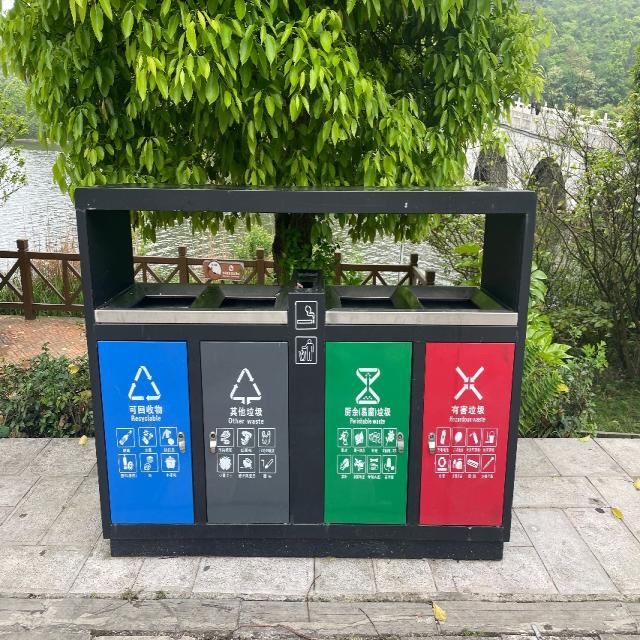garbage_bin: (72, 185, 536, 561)
